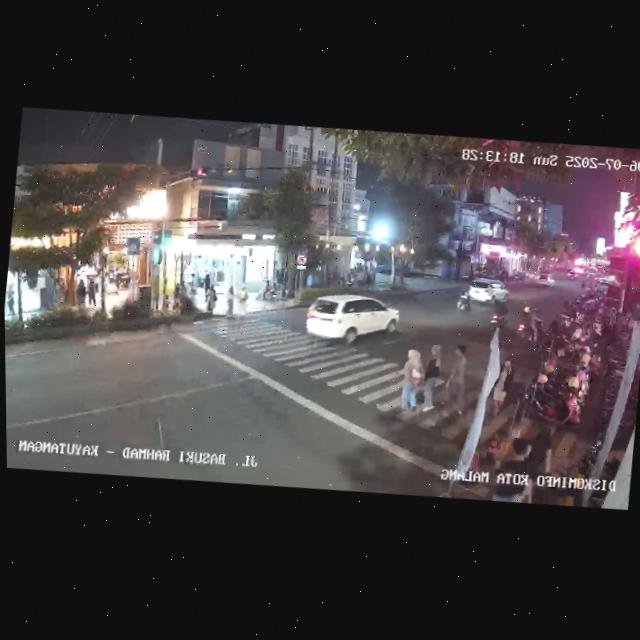car: (301, 286, 403, 353), (462, 274, 511, 308), (532, 269, 558, 291)
motorcycle: (512, 303, 549, 347), (487, 297, 510, 333), (453, 284, 474, 313)
person: (419, 339, 449, 422), (396, 344, 428, 421), (484, 355, 519, 422), (442, 343, 471, 420), (204, 281, 219, 316), (223, 284, 237, 319), (74, 274, 88, 309), (4, 285, 18, 318), (237, 282, 249, 319), (87, 274, 99, 308), (189, 273, 200, 304)
